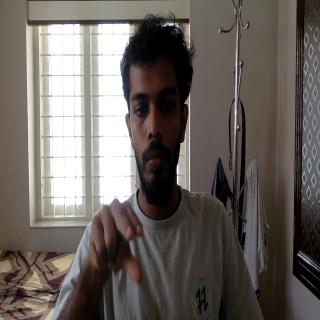No: (69, 168, 164, 305)
